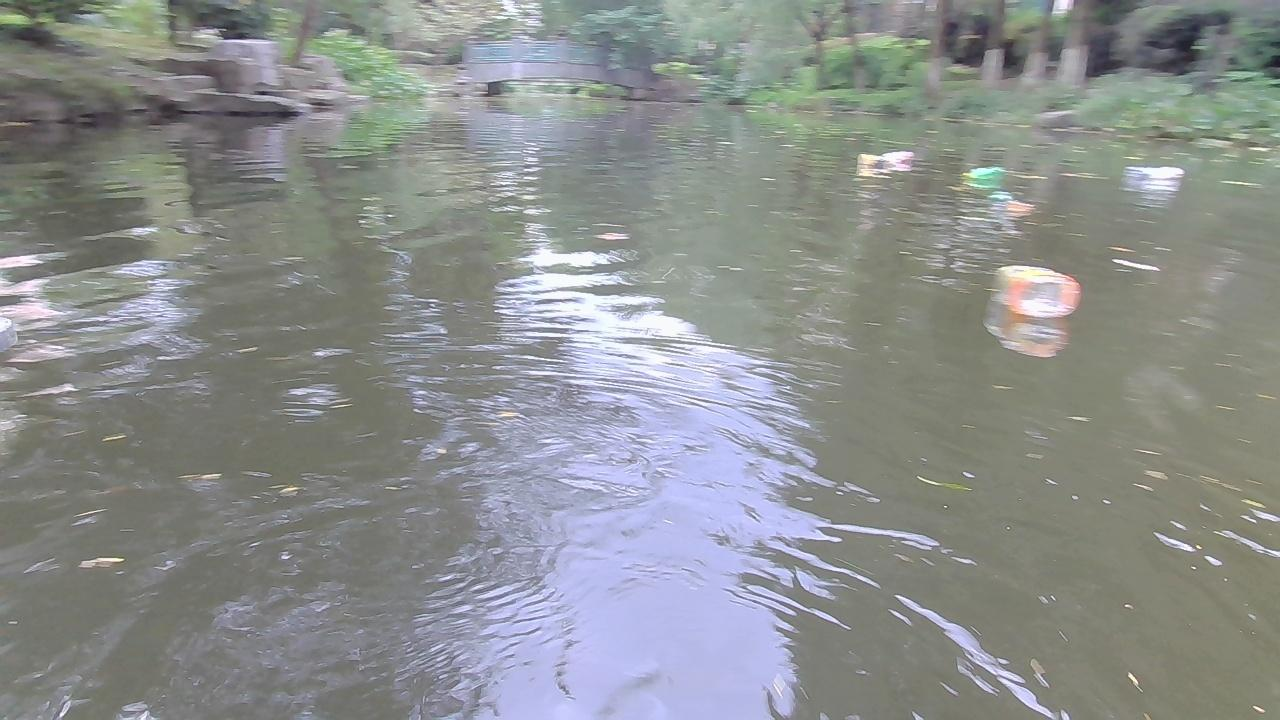bottle: (992, 259, 1083, 318), (1128, 160, 1188, 186), (960, 164, 1007, 180), (851, 152, 891, 168), (879, 150, 917, 162), (992, 188, 1008, 203)
